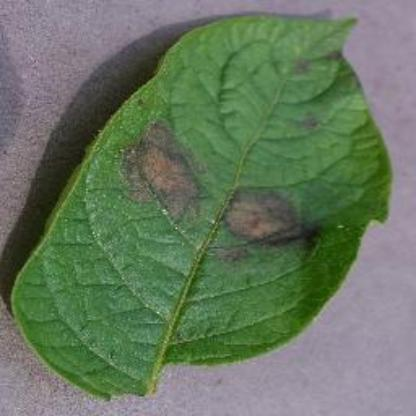Late-Blight: (16, 13, 404, 404)
